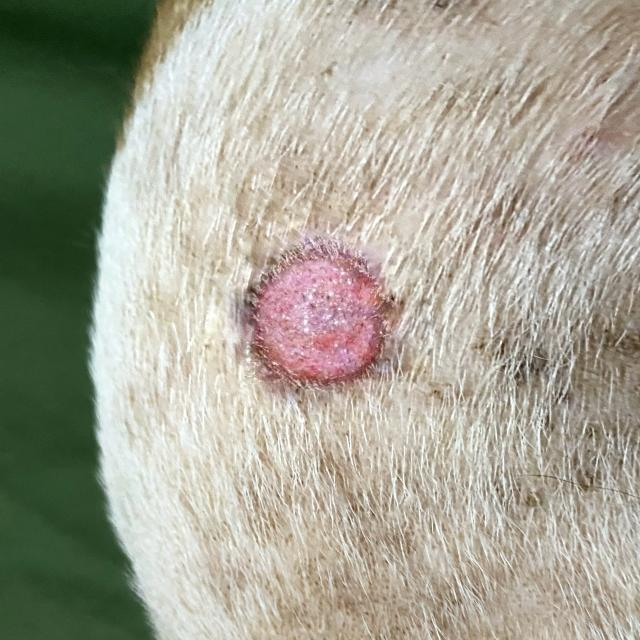ringworm: (226, 238, 406, 412)
